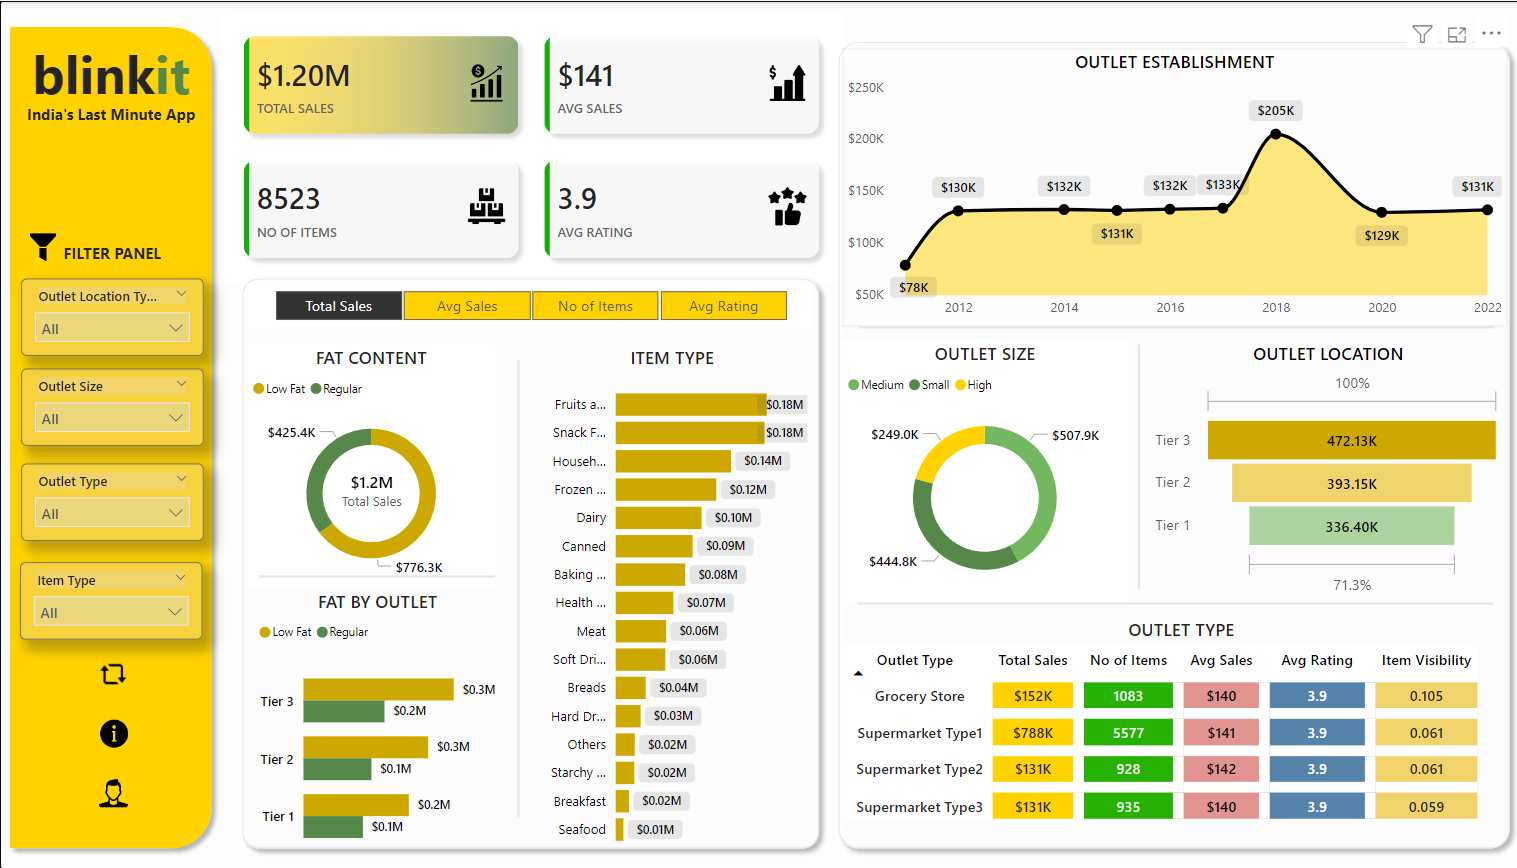

The page's visual inventory and layout, read from the dashboard file:
{"tool":"powerbi","page":{"name":"Page 1","canvas":[1400,800],"ordinal":0},"visuals":[{"type":"shape","box":[0,15,204.1,774.4],"z":0},{"type":"textbox","box":[18,28.5,168.1,85.5],"z":1000},{"type":"textbox","box":[18,90.1,168.1,46.5],"z":2000},{"type":"cardVisual","fields":{"Data":["BlinkIT Grocery Data.Total Sales","BlinkIT Grocery Data.Avg Sales","BlinkIT Grocery Data.No of Items","BlinkIT Grocery Data.Avg Rating"]},"box":[204.1,12,573.3,247.6],"z":3000},{"type":"shape","box":[214.6,246.1,549.3,543.3],"z":4000},{"type":"donutChart","title":"FAT CONTENT","fields":{"Y":["BlinkIT Grocery Data.Total Sales"],"Category":["BlinkIT Grocery Data.Item Fat Content"]},"box":[228.1,316.7,228.1,225.1],"z":5000},{"type":"slicer","fields":{"Values":["Metrics.Metrics"]},"box":[228.1,259.6,520.8,40.5],"z":6000},{"type":"cardVisual","fields":{"Data":["BlinkIT Grocery Data.Total Sales"]},"box":[295.7,415.7,93.1,69],"z":7000},{"type":"clusteredBarChart","title":"FAT BY OUTLET","fields":{"Y":["BlinkIT Grocery Data.Total Sales"],"Category":["BlinkIT Grocery Data.Outlet Location Type"],"Series":["BlinkIT Grocery Data.Item Fat Content"]},"box":[233.3,540.9,228.3,258.1],"z":8000},{"type":"shape","box":[233.7,528.5,217.6,24.2],"z":9000},{"type":"shape","box":[466.8,330.2,22.5,421.7],"z":10000},{"type":"barChart","title":"ITEM TYPE","fields":{"Y":["BlinkIT Grocery Data.Total Sales"],"Category":["BlinkIT Grocery Data.Item Type"]},"box":[489.3,316.7,259.6,472.8],"z":11000},{"type":"shape","box":[763.9,28.5,636.4,760.9],"z":12000},{"type":"lineChart","title":"OUTLET ESTABLISHMENT","fields":{"Category":["BlinkIT Grocery Data.Outlet Establishment Year"],"Y":["BlinkIT Grocery Data.Total Sales"]},"box":[775.9,43.5,612.4,256.6],"z":13000},{"type":"shape","box":[791,288.2,585.3,25.5],"z":14000},{"type":"donutChart","title":"OUTLET SIZE","fields":{"Y":["BlinkIT Grocery Data.Total Sales"],"Category":["BlinkIT Grocery Data.Outlet Size"]},"box":[775.9,313.7,262.7,240.1],"z":15000},{"type":"shape","box":[1038.6,316.7,21,225.1],"z":16000},{"type":"funnel","title":"OUTLET LOCATION","fields":{"Y":["Sum(BlinkIT Grocery Data.Sales)"],"Category":["BlinkIT Grocery Data.Outlet Location Type"]},"box":[1059.6,313.7,328.7,240.1],"z":17000},{"type":"shape","box":[789.5,541.8,585.3,25.5],"z":18000},{"type":"pivotTable","title":"OUTLET TYPE","fields":{"Rows":["BlinkIT Grocery Data.Outlet Type"],"Values":["BlinkIT Grocery Data.Total Sales","BlinkIT Grocery Data.No of Items","BlinkIT Grocery Data.Avg Sales","BlinkIT Grocery Data.Avg Rating","Avg(BlinkIT Grocery Data.Item Visibility)"]},"box":[775.9,567.3,624.4,207.1],"z":19000},{"type":"slicer","fields":{"Values":["BlinkIT Grocery Data.Outlet Location Type"]},"box":[19.9,255.1,167.9,71.2],"z":20000},{"type":"slicer","fields":{"Values":["BlinkIT Grocery Data.Outlet Size"]},"box":[19.9,339.1,167.9,71.2],"z":21000},{"type":"slicer","fields":{"Values":["BlinkIT Grocery Data.Outlet Type"]},"box":[19.9,425.6,167.9,71],"z":22000},{"type":"image","box":[88,605.4,34.1,28.9],"z":23000},{"type":"image","box":[19.7,208.8,40.7,36.8],"z":23001},{"type":"textbox","box":[40.9,217.1,124.1,28.5],"z":23002},{"type":"image","box":[84.1,707.9,40.7,43.3],"z":23003},{"type":"slicer","fields":{"Values":["BlinkIT Grocery Data.Item Type"]},"box":[18.4,517.4,168.1,70.9],"z":23004},{"type":"image","box":[86.7,652.7,38.1,43.3],"z":23005}]}

Visuals, with their boxes in screenshot pixels (x1, y1, x2, y2), scaled from the page's 1400x800 canvas onto the 1517x868 screenshot:
shape: bbox=[0, 16, 221, 856]
textbox: bbox=[20, 31, 202, 124]
textbox: bbox=[20, 98, 202, 148]
cardVisual - BlinkIT Grocery Data.Total Sales x BlinkIT Grocery Data.Avg Sales: bbox=[221, 13, 842, 282]
shape: bbox=[233, 267, 828, 856]
"FAT CONTENT" donutChart: bbox=[247, 344, 494, 588]
slicer - Metrics.Metrics: bbox=[247, 282, 811, 326]
cardVisual - BlinkIT Grocery Data.Total Sales: bbox=[320, 451, 421, 526]
"FAT BY OUTLET" clusteredBarChart: bbox=[253, 587, 500, 867]
shape: bbox=[253, 573, 489, 600]
shape: bbox=[506, 358, 530, 816]
"ITEM TYPE" barChart: bbox=[530, 344, 811, 857]
shape: bbox=[828, 31, 1516, 856]
"OUTLET ESTABLISHMENT" lineChart: bbox=[841, 47, 1504, 326]
shape: bbox=[857, 313, 1491, 340]
"OUTLET SIZE" donutChart: bbox=[841, 340, 1125, 601]
shape: bbox=[1125, 344, 1148, 588]
"OUTLET LOCATION" funnel: bbox=[1148, 340, 1504, 601]
shape: bbox=[855, 588, 1490, 616]
"OUTLET TYPE" pivotTable: bbox=[841, 616, 1516, 840]
slicer - BlinkIT Grocery Data.Outlet Location Type: bbox=[22, 277, 203, 354]
slicer - BlinkIT Grocery Data.Outlet Size: bbox=[22, 368, 203, 445]
slicer - BlinkIT Grocery Data.Outlet Type: bbox=[22, 462, 203, 539]
image: bbox=[95, 657, 132, 688]
image: bbox=[21, 227, 65, 266]
textbox: bbox=[44, 236, 179, 266]
image: bbox=[91, 768, 135, 815]
slicer - BlinkIT Grocery Data.Item Type: bbox=[20, 561, 202, 638]
image: bbox=[94, 708, 135, 755]
